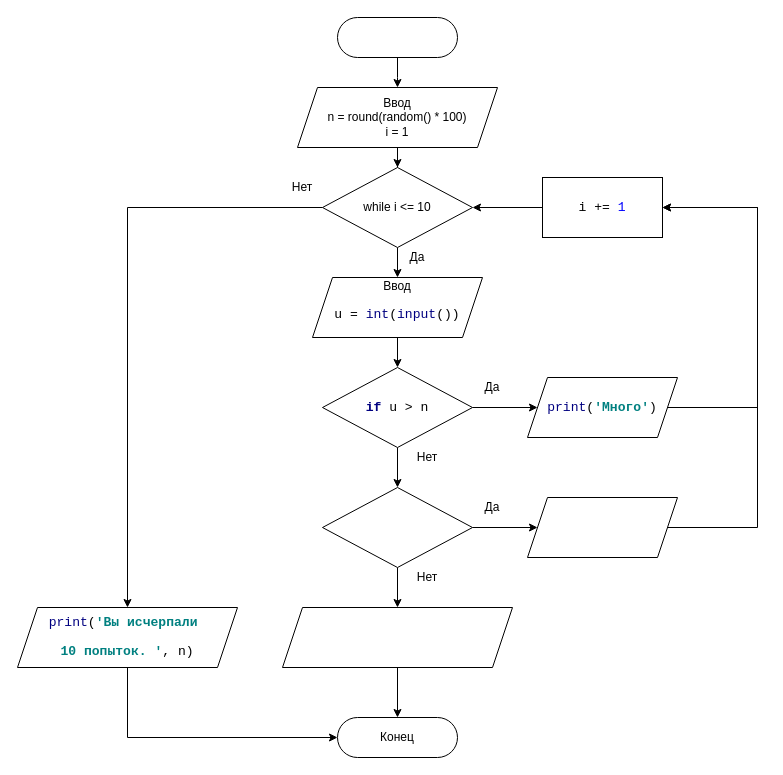
Some shapes in this 783 by 775 pixel diagram are drawn without their labels. Each missing label, with the centre of its shape:
elif u < n: (397,527)
print ( 'Вы угадали с %d-й попытки' % i) break: (397,637)
print ( 'Мало' ): (602,527)
Начало: (397,37)
